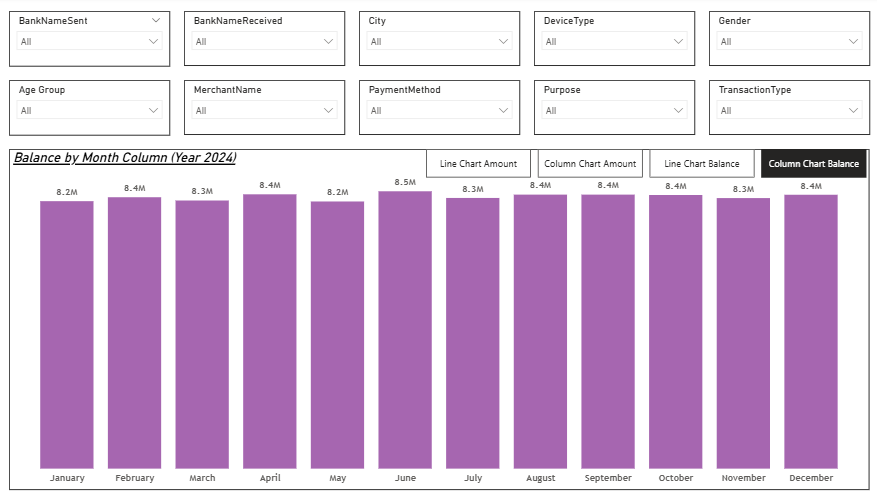

The page's visual inventory and layout, read from the dashboard file:
{"tool":"powerbi","page":{"name":"Page 1","canvas":[1280,720],"ordinal":0},"visuals":[{"type":"slicer","fields":{"Values":["Sheet1.BankNameSent"]},"box":[20,20,232,80],"z":0},{"type":"slicer","fields":{"Values":["Sheet1.BankNameReceived"]},"box":[272,20,231.8,79.2],"z":1000},{"type":"slicer","fields":{"Values":["Sheet1.City"]},"box":[524,20,231.8,79.2],"z":2000},{"type":"slicer","fields":{"Values":["Sheet1.DeviceType"]},"box":[776,20,231.8,79.2],"z":3000},{"type":"slicer","fields":{"Values":["Sheet1.Gender"]},"box":[1028,20,231.8,79.2],"z":4000},{"type":"slicer","fields":{"Values":["Sheet1.Age Group"]},"box":[20,120,232,80],"z":5000},{"type":"slicer","fields":{"Values":["Sheet1.MerchantName"]},"box":[272,120,231.8,79.2],"z":6000},{"type":"slicer","fields":{"Values":["Sheet1.PaymentMethod"]},"box":[524,120,231.8,79.2],"z":7000},{"type":"slicer","fields":{"Values":["Sheet1.Purpose"]},"box":[776,120,231.8,79.2],"z":8000},{"type":"slicer","fields":{"Values":["Sheet1.TransactionType"]},"box":[1028,120,231.8,79.2],"z":9000},{"type":"columnChart","title":"Balance by Month Column (Year 2024)","fields":{"Category":["UPI Transactions.TransactionDate.Variation.Date Hierarchy.Month"],"Y":["Sum(UPI Transactions.RemainingBalance)"]},"box":[20.3,218.6,1239.4,491.3],"z":14000},{"type":"bookmarkNavigator","box":[620.6,218.9,637.9,41.8],"z":14001}]}

Visuals, with their boxes in screenshot pixels (x1, y1, x2, y2), scaled from the page's 1280x720 canvas onto the 877x495 screenshot:
slicer - Sheet1.BankNameSent: pyautogui.locateOnScreen(14, 14, 173, 69)
slicer - Sheet1.BankNameReceived: pyautogui.locateOnScreen(186, 14, 345, 68)
slicer - Sheet1.City: pyautogui.locateOnScreen(359, 14, 518, 68)
slicer - Sheet1.DeviceType: pyautogui.locateOnScreen(532, 14, 691, 68)
slicer - Sheet1.Gender: pyautogui.locateOnScreen(704, 14, 863, 68)
slicer - Sheet1.Age Group: pyautogui.locateOnScreen(14, 82, 173, 138)
slicer - Sheet1.MerchantName: pyautogui.locateOnScreen(186, 82, 345, 137)
slicer - Sheet1.PaymentMethod: pyautogui.locateOnScreen(359, 82, 518, 137)
slicer - Sheet1.Purpose: pyautogui.locateOnScreen(532, 82, 691, 137)
slicer - Sheet1.TransactionType: pyautogui.locateOnScreen(704, 82, 863, 137)
"Balance by Month Column (Year 2024)" columnChart: pyautogui.locateOnScreen(14, 150, 863, 488)
bookmarkNavigator: pyautogui.locateOnScreen(425, 150, 862, 179)
